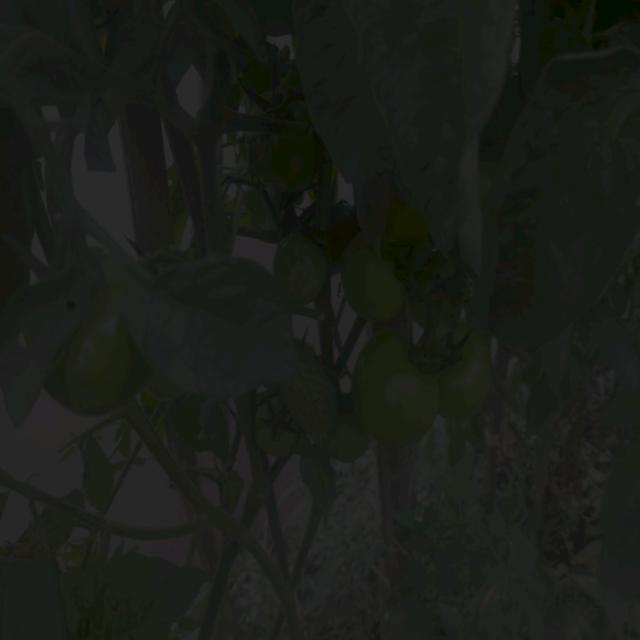tomato: (351, 330, 442, 447), (57, 323, 150, 412), (349, 243, 414, 322), (254, 126, 322, 192), (445, 321, 498, 404), (357, 190, 421, 251), (277, 231, 329, 296), (264, 401, 299, 456)
